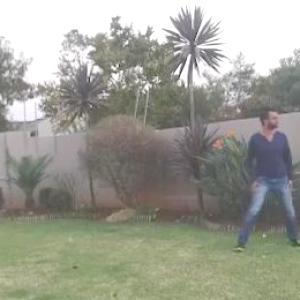follow: (248, 90, 295, 255)
